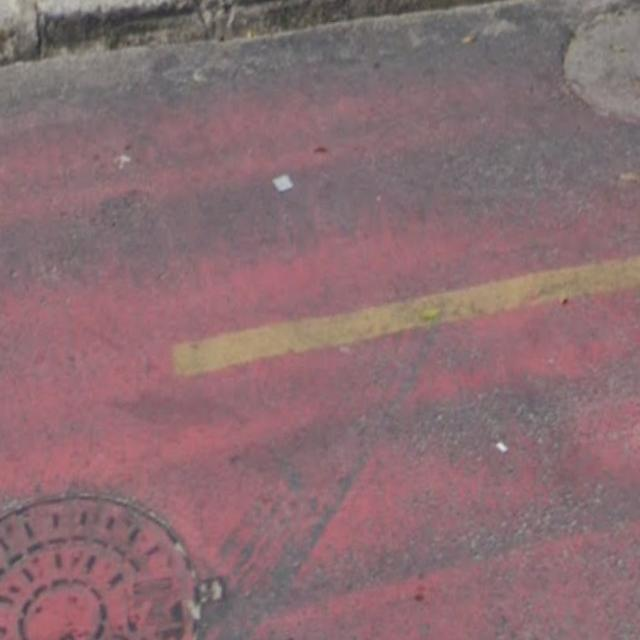Bueiro: (0, 447, 241, 640), (558, 0, 640, 150)
